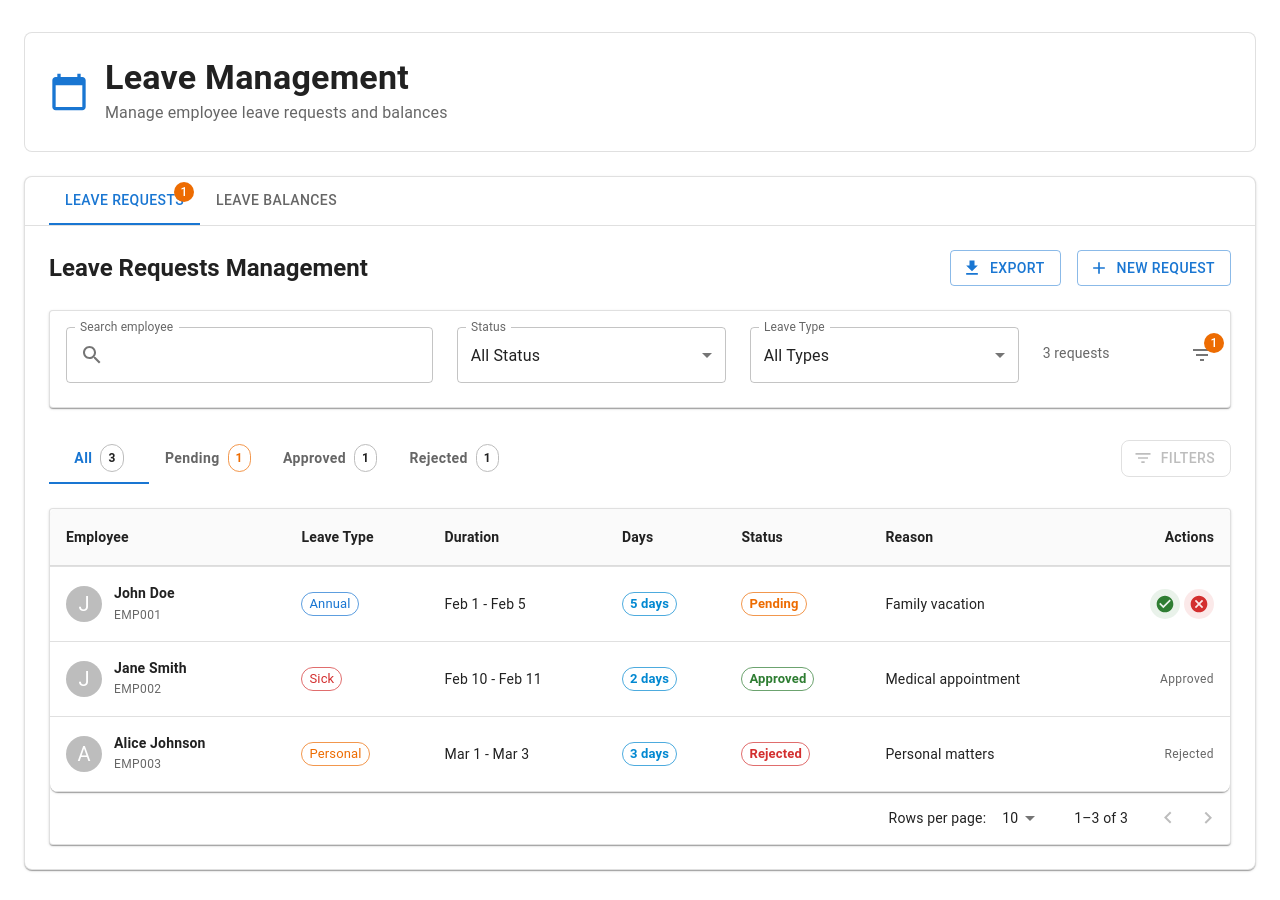
Test: Leave Balances Tab › navigates to Leave Balances tab
This screenshot has width=1280, height=900.
Check: the heading "Leave Management" is shown, box x1=105 y1=57 x2=448 y2=99
Click the tab "Leave Balances" at (276, 201), box x1=200 y1=177 x2=353 y2=225
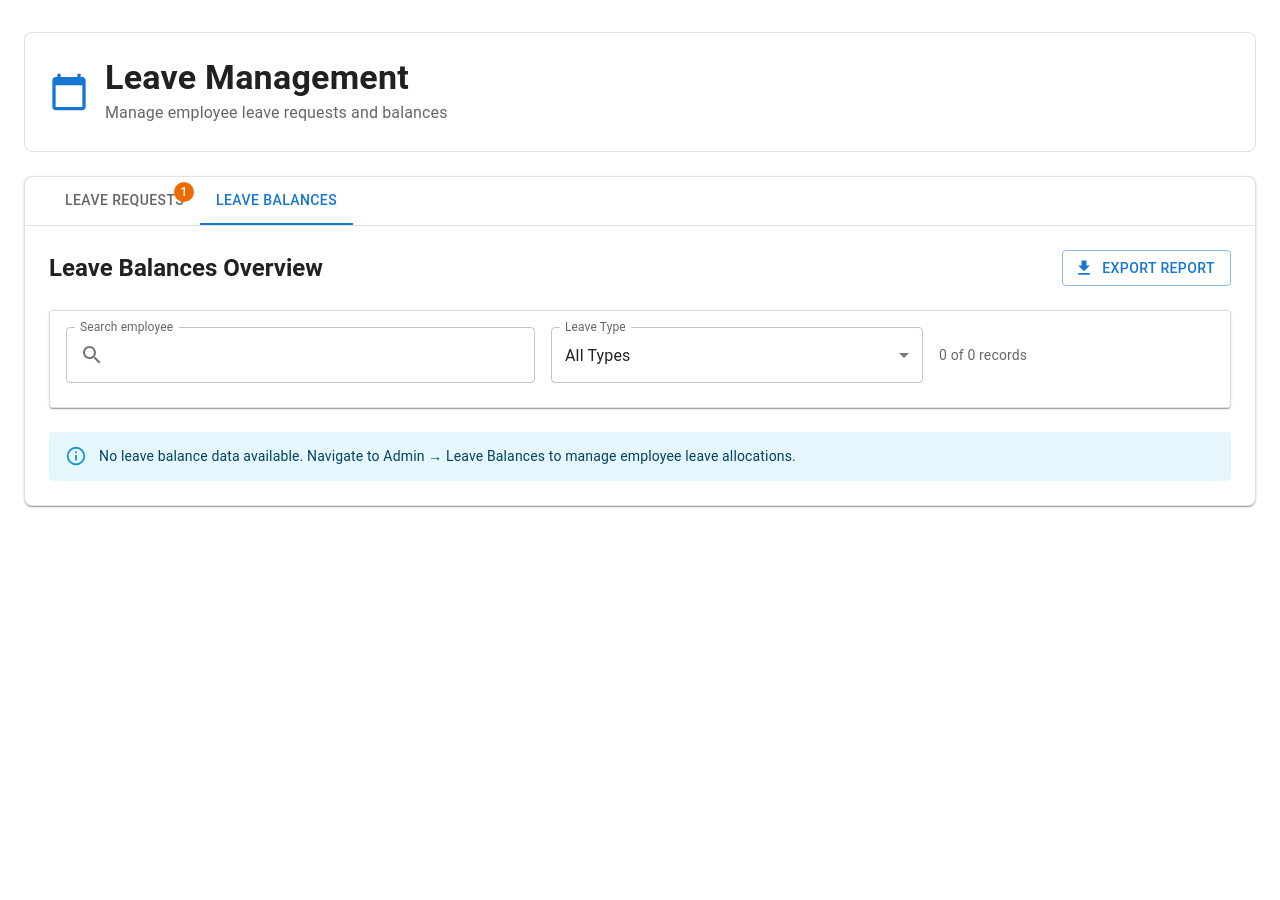
Check: the heading "Leave Balances Overview" is shown, box x1=49 y1=252 x2=323 y2=284
